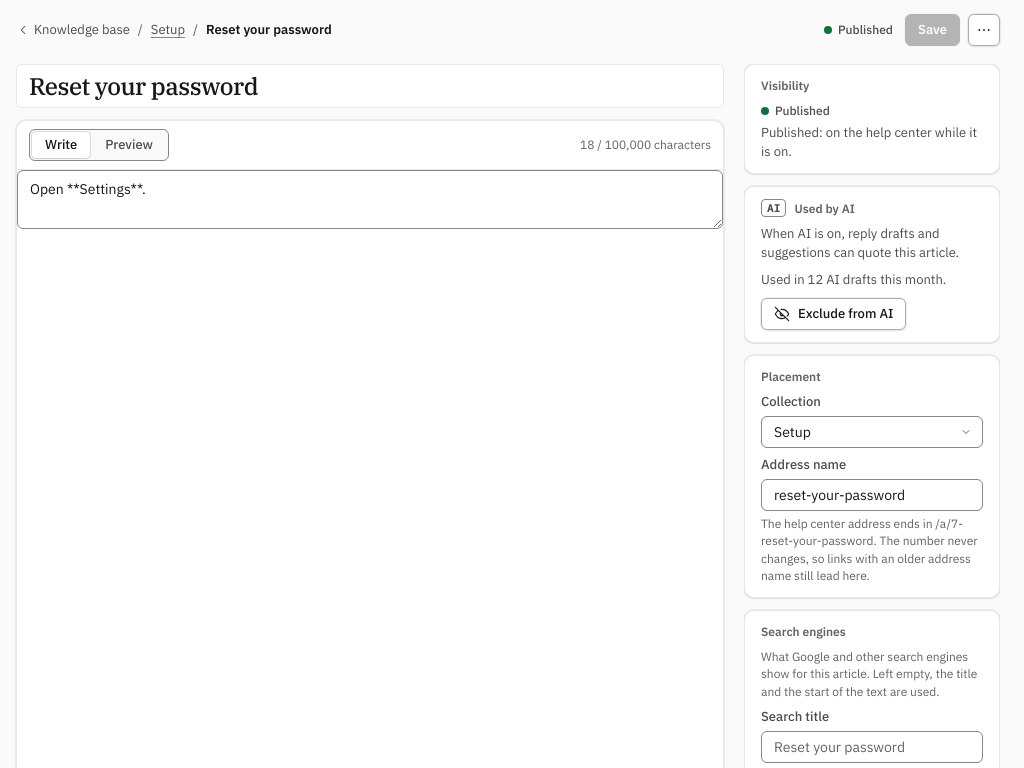
Test: an article is excluded from AI and let back without touching an edit in progress, and says since when and by whom
Check: the text "When AI is on, reply drafts and suggestions can quote this article." is shown, box [761,226,983,263]
Check: the text "Used in 12 AI drafts this month." is shown, box [761,271,946,288]
Replace the text in the text box named "Text (Markdown)" with "Open **Settings**, then Security." at (370, 199), box [17,170,723,229]
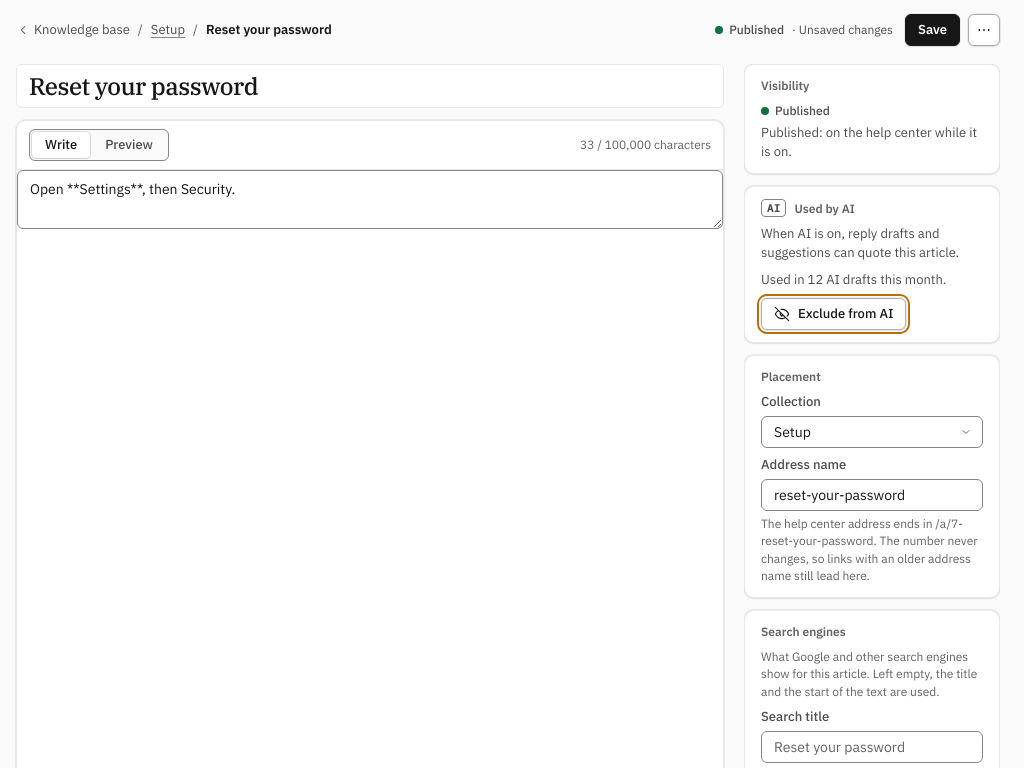
Click the button "Exclude from AI" at (834, 314), box [761,298,906,330]
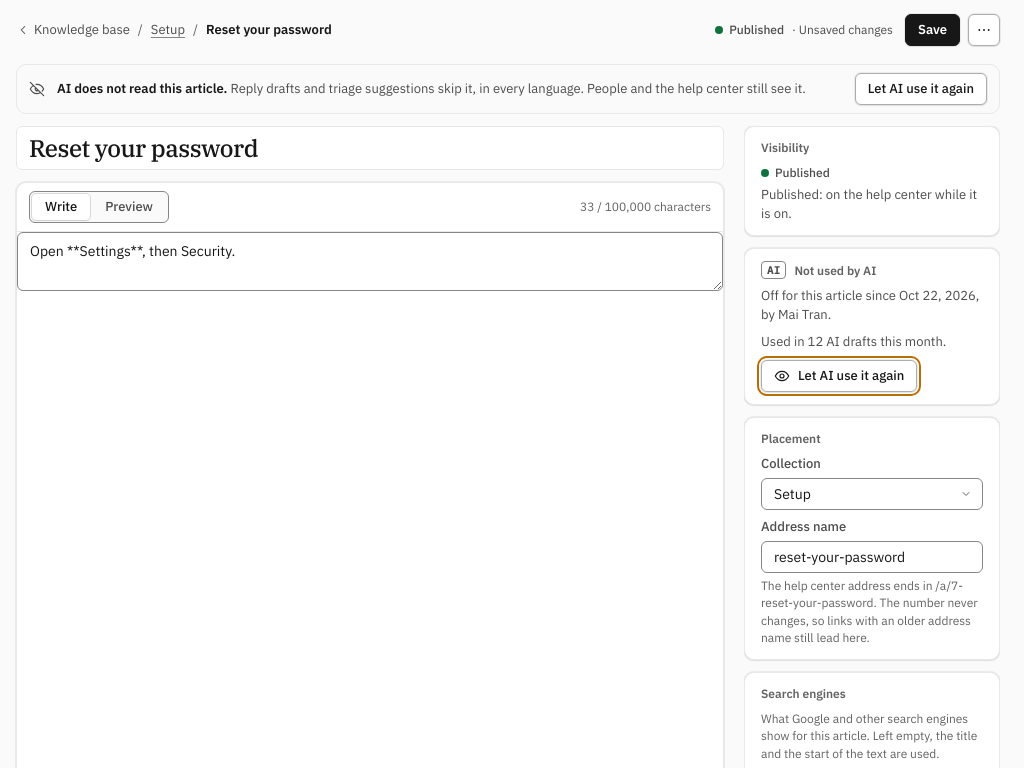
Check: the button "Save" is enabled, box [905,14,960,46]
Check: the text "Off for this article since Oct 22, 2026, by Mai Tran." is shown, box [761,288,983,325]
Check: the text "AI does not read this article." is shown, box [57,80,227,97]
Note: The note above the text has the way back too.
Click the button "Let AI use it again" in the row of "AI does not read this article." at (921, 89), box [855,73,987,105]
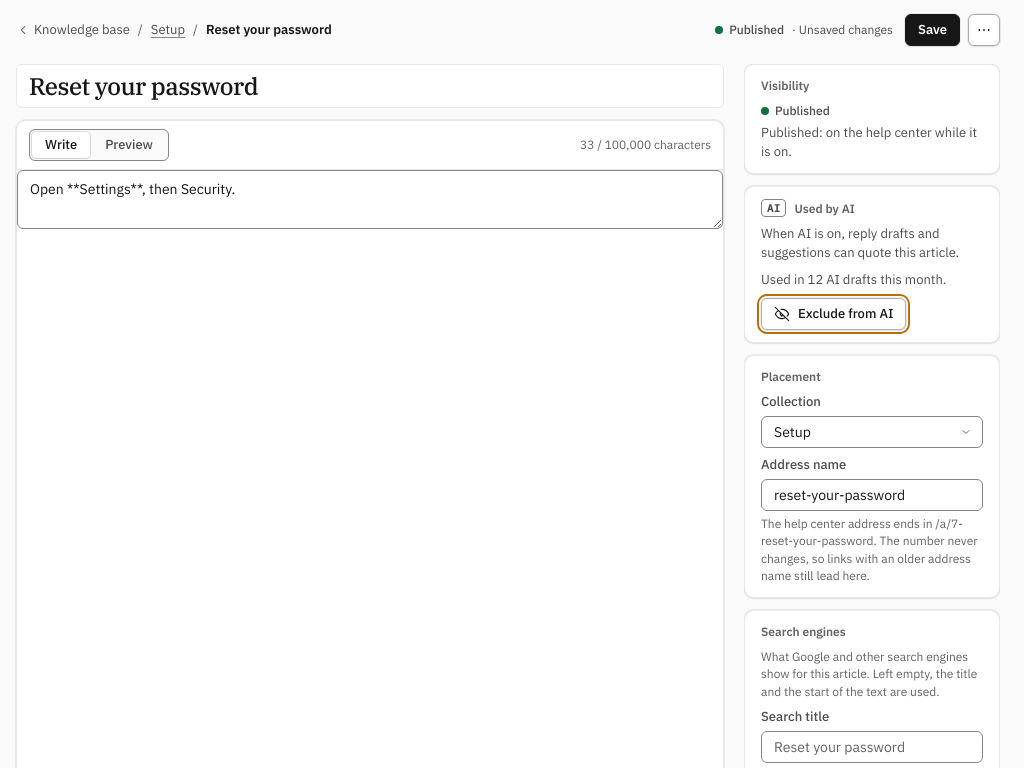
Check: the button "Exclude from AI" is shown, box [761,298,906,330]
Check: the text "AI does not read this article." is gone
